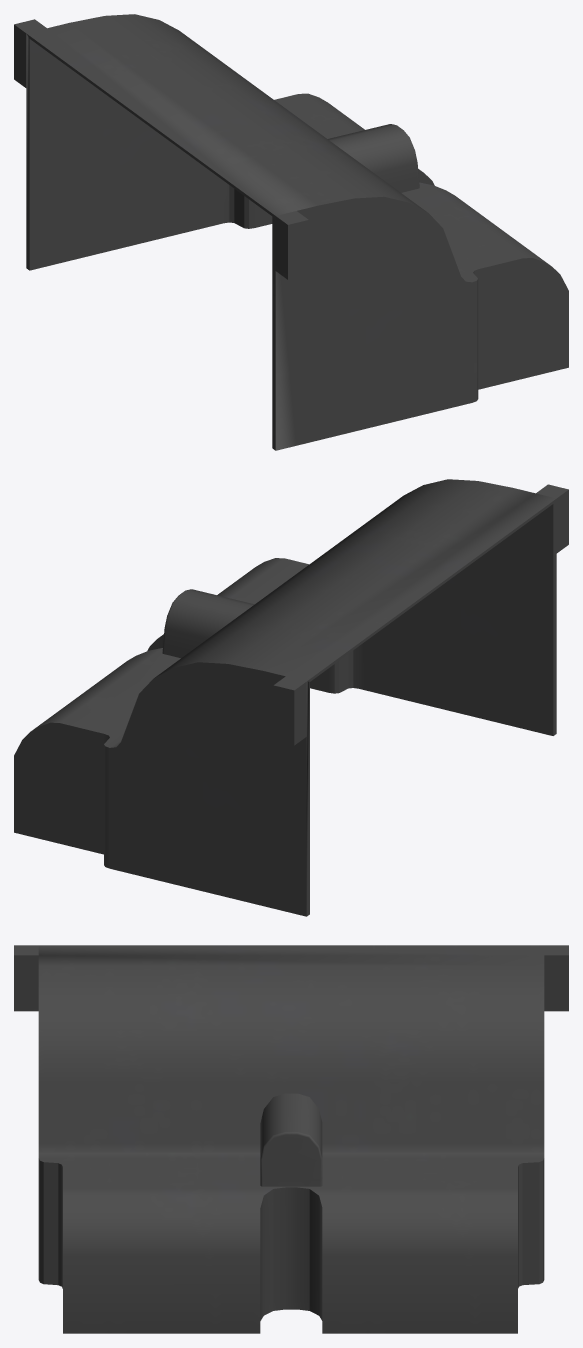
Rendered from SM_SM_光谱仪_内部零件01.FBX.
3 renders of one model, top to bottom at view 1: azimuth 30°, elevation 25°; view 2: azimuth 150°, elevation 25°; view 3: azimuth 270°, elevation 25°, orthographic.
Visible parts, largest first — view 1: SM_SM_光谱仪_内部零件01; view 2: SM_SM_光谱仪_内部零件01; view 3: SM_SM_光谱仪_内部零件01.
Part boxes in pixels (x1,y1,x2,y2): SM_SM_光谱仪_内部零件01: (14, 14, 568, 450); SM_SM_光谱仪_内部零件01: (14, 479, 568, 916); SM_SM_光谱仪_内部零件01: (14, 945, 568, 1333).
Size of the model in its own units: 0.2255 by 0.1658 by 0.3507.
